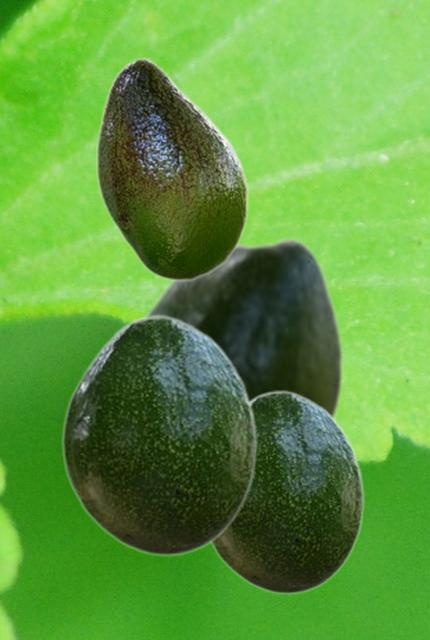avocado: (61, 315, 256, 556), (137, 236, 343, 422), (96, 57, 248, 280), (210, 390, 363, 594)
